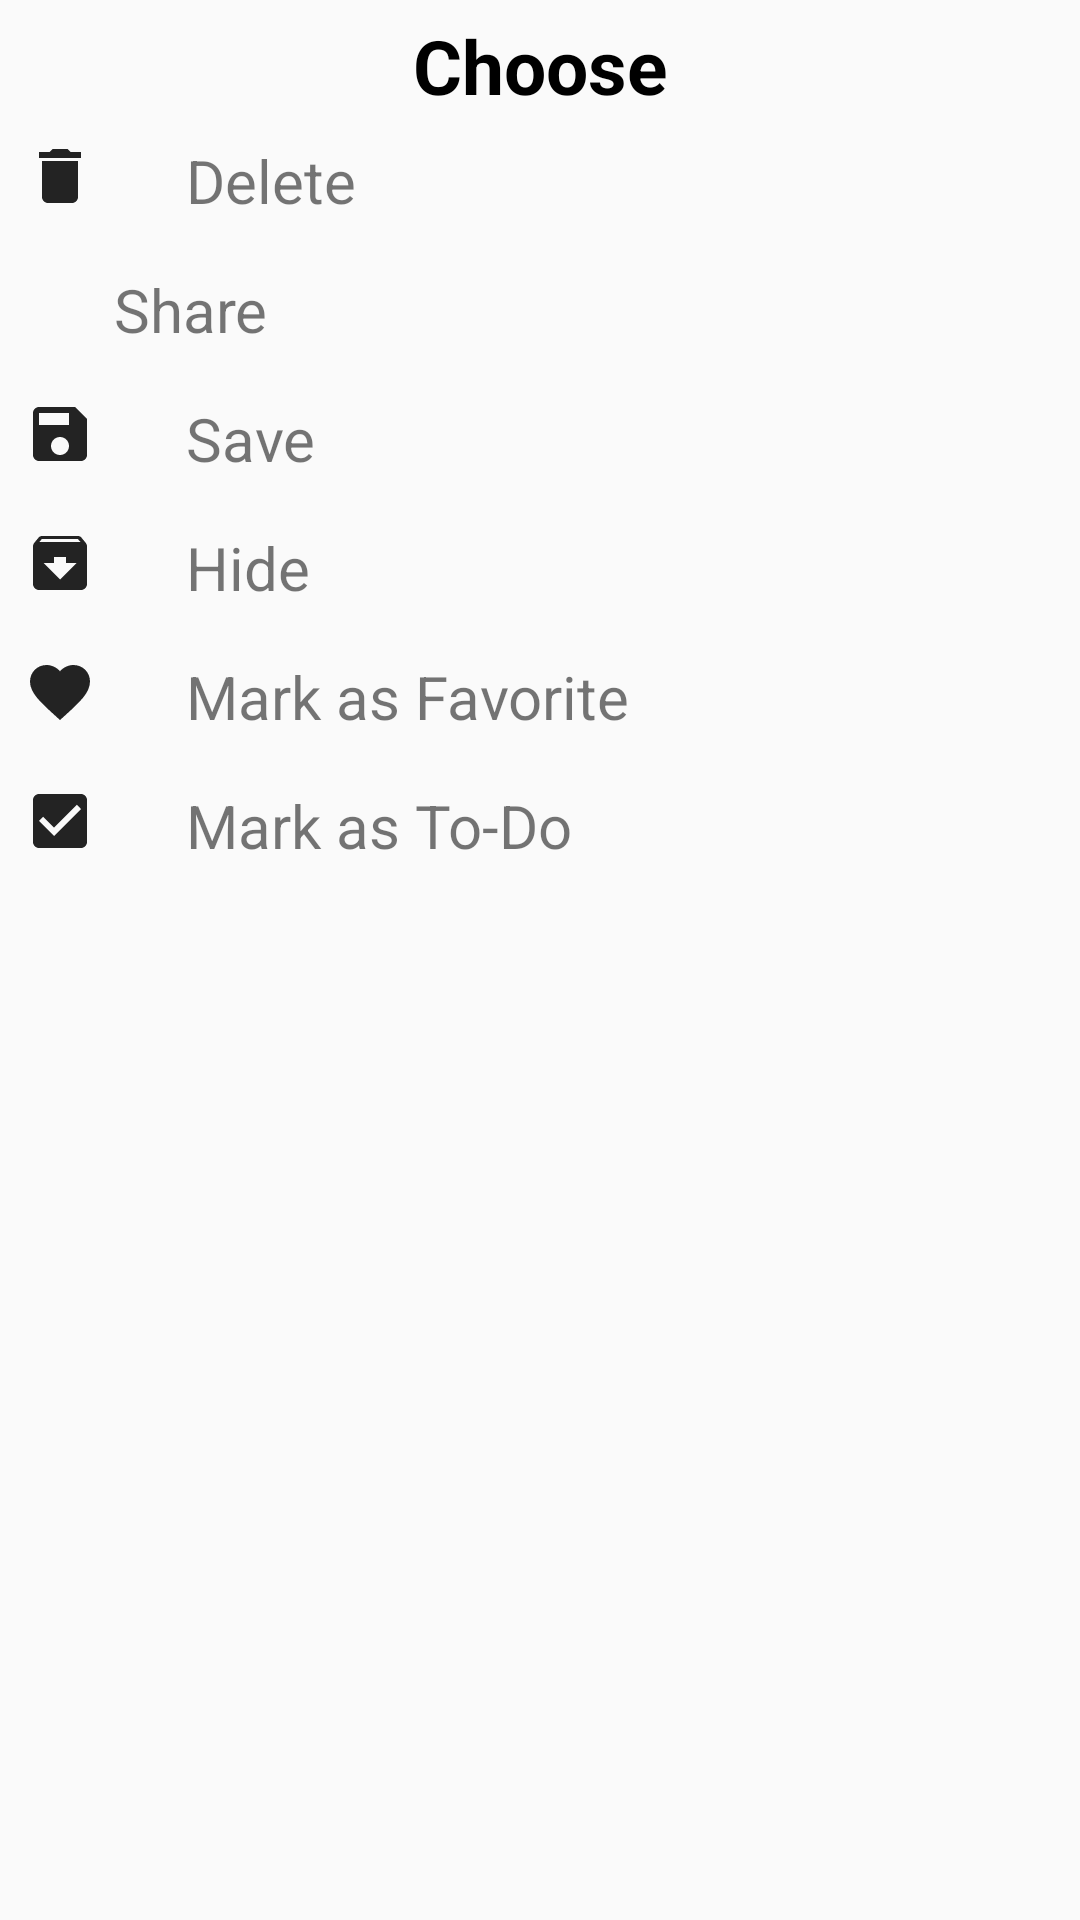

Named icons in this screenshot (1080 x 1920) and their centers, point (x, y):
check: point (60, 821)
